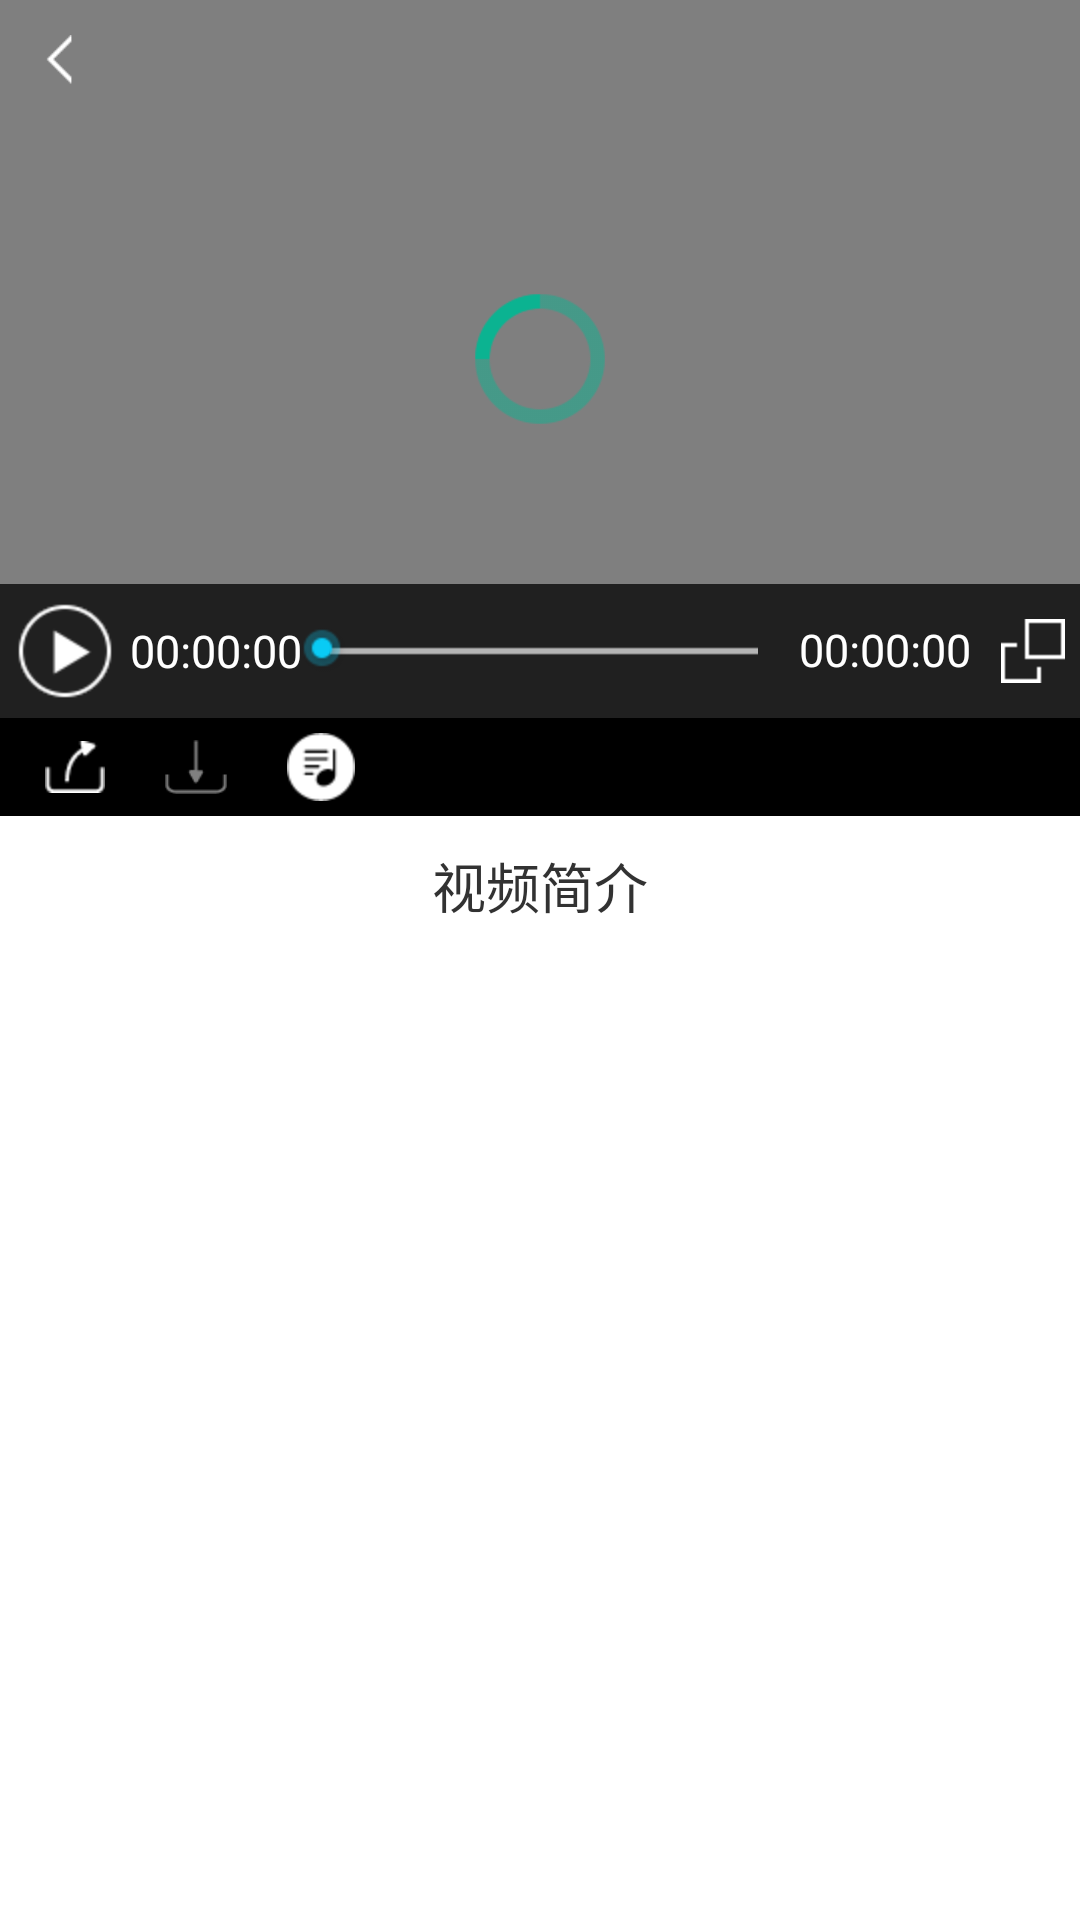

Where to tap for icons on this 1080×1920 app screen, as (x,y):
back: (59,59)
download: (196,767)
fullscreen: (1033,651)
musiclist: (321,767)
share: (75,767)
start: (65,651)
